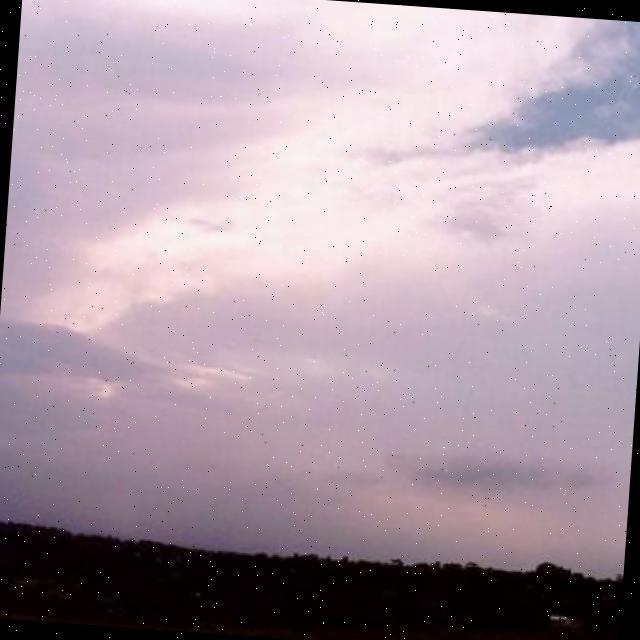St: (1, 1, 640, 475)
